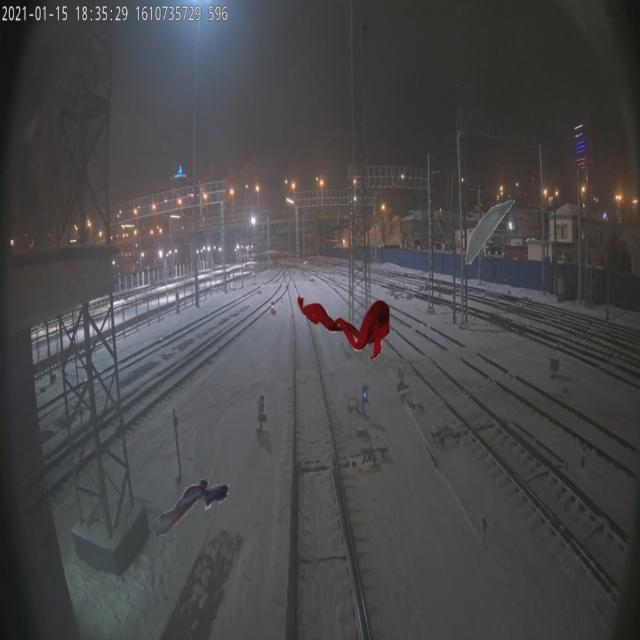balloon: (296, 295, 389, 359)
floating object: (153, 474, 230, 538), (464, 200, 515, 264)
